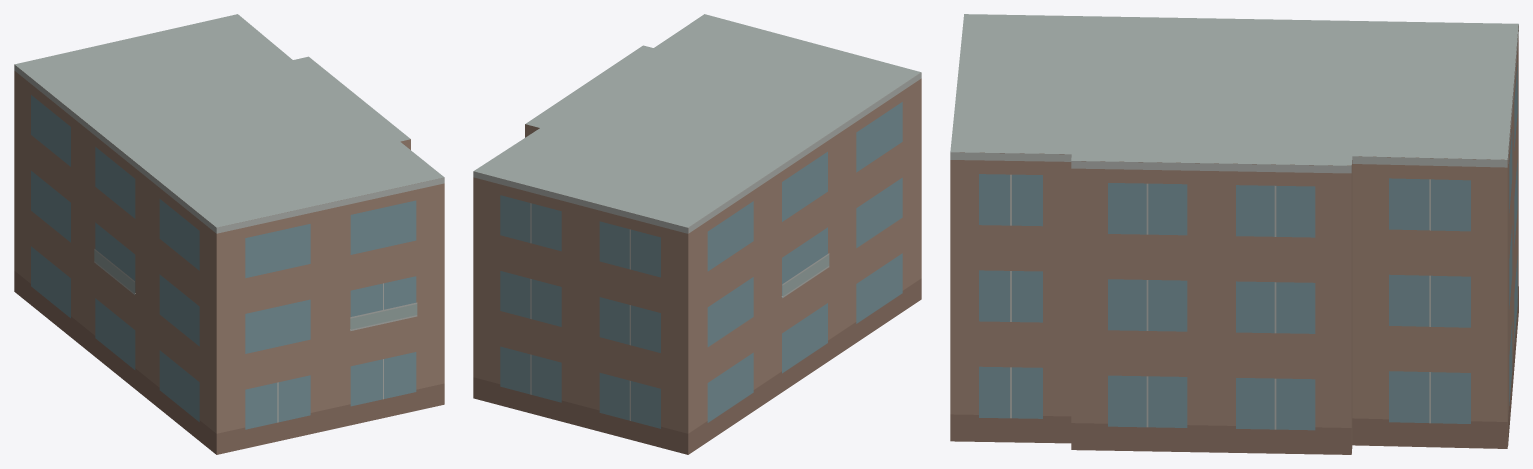
File: survey-upis-32914810.glb
The picture shows the model from 3 angles, left to right: view 1: azimuth 30°, elevation 25°; view 2: azimuth 150°, elevation 25°; view 3: azimuth 270°, elevation 25°; orthographic projection. The views are drawn at different scales.
Visible parts, largest first — view 1: survey-upis-32914810.tmp; view 2: survey-upis-32914810.tmp; view 3: survey-upis-32914810.tmp.
Part boxes in pixels (<box>): survey-upis-32914810.tmp: <box>14,14,444,454</box>; survey-upis-32914810.tmp: <box>473,14,921,454</box>; survey-upis-32914810.tmp: <box>950,14,1518,454</box>.
Size of the model in its own units: 10.31 by 9.15 by 16.31.
